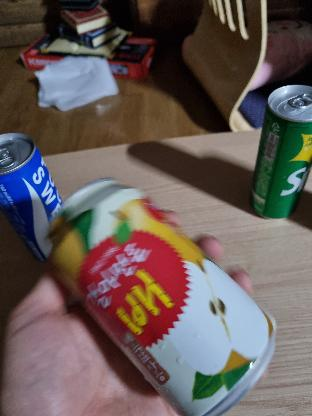Can: (46, 168, 274, 416), (0, 135, 69, 254), (253, 84, 312, 217)
